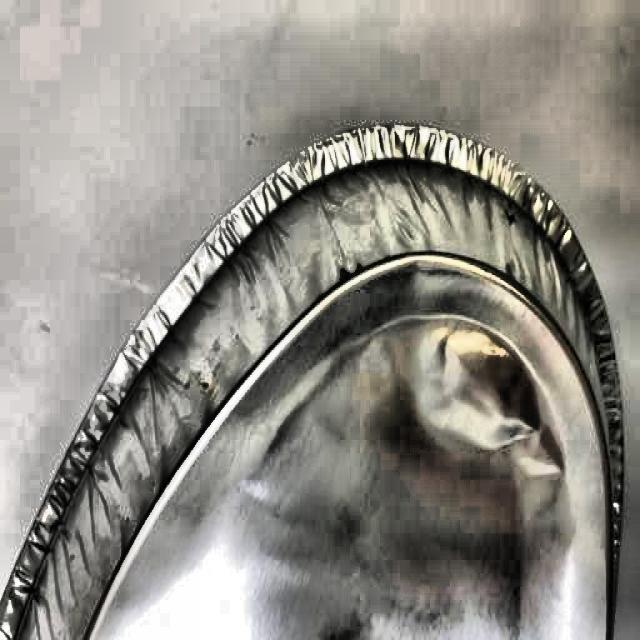metal: (0, 121, 627, 640)
